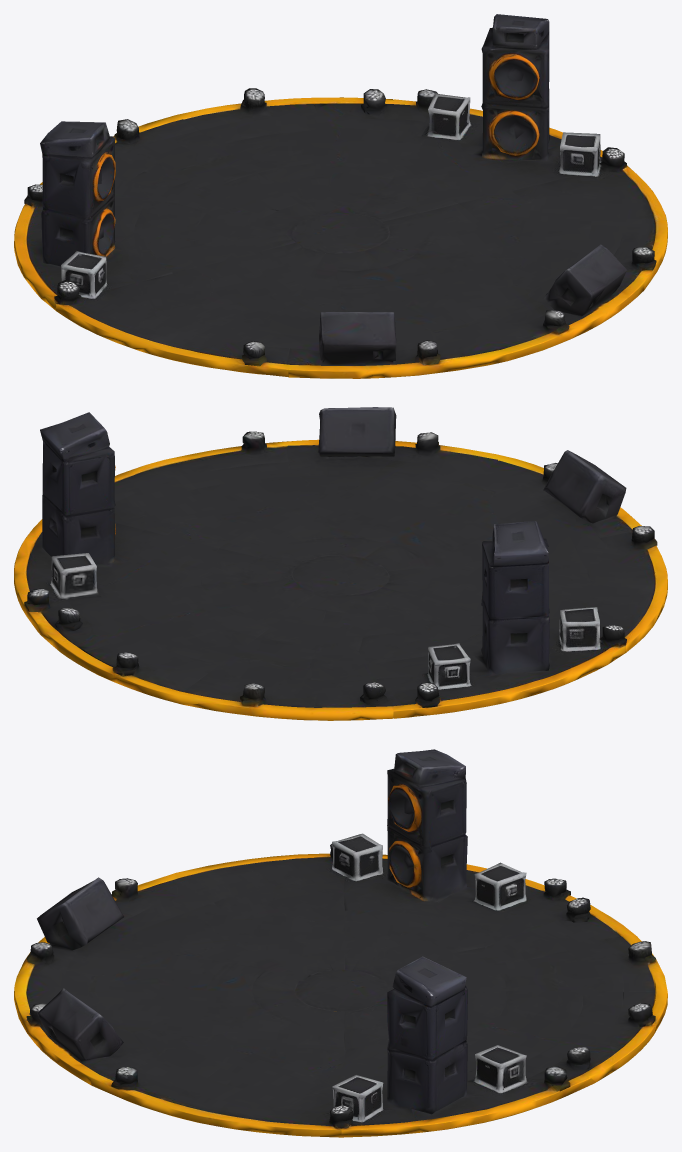
The model's file is dewi-sri-panggung.glb.
3 renders of one model, top to bottom at view 1: azimuth 30°, elevation 25°; view 2: azimuth 150°, elevation 25°; view 3: azimuth 270°, elevation 25°, orthographic.
Parts seen in each view (by area): view 1: tripo_node_6149fd4c-25f7-4f1b-983d-7fb3218ce639; view 2: tripo_node_6149fd4c-25f7-4f1b-983d-7fb3218ce639; view 3: tripo_node_6149fd4c-25f7-4f1b-983d-7fb3218ce639.
Part boxes in pixels (x1,y1,x2,y2): tripo_node_6149fd4c-25f7-4f1b-983d-7fb3218ce639: (14,14,667,378); tripo_node_6149fd4c-25f7-4f1b-983d-7fb3218ce639: (14,407,667,720); tripo_node_6149fd4c-25f7-4f1b-983d-7fb3218ce639: (14,749,667,1137).
Size of the model in its own units: 0.981 by 0.2275 by 0.9768.
1 material, 1 textured.
